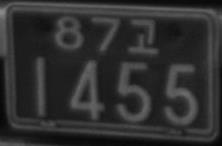1: (23, 57, 58, 117)
4: (70, 60, 105, 120)
5: (163, 63, 199, 128), (116, 61, 152, 123)
7: (90, 15, 120, 53)
8: (53, 15, 84, 50)
고: (127, 18, 157, 54)
